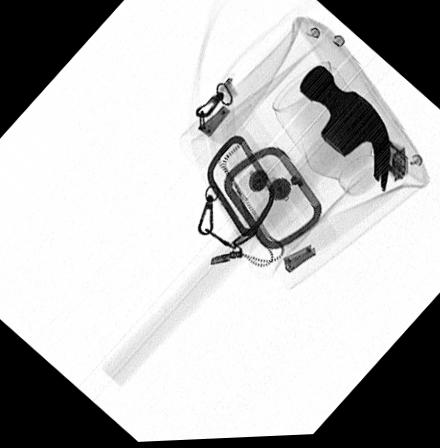Hammer: (99, 65, 391, 387)
